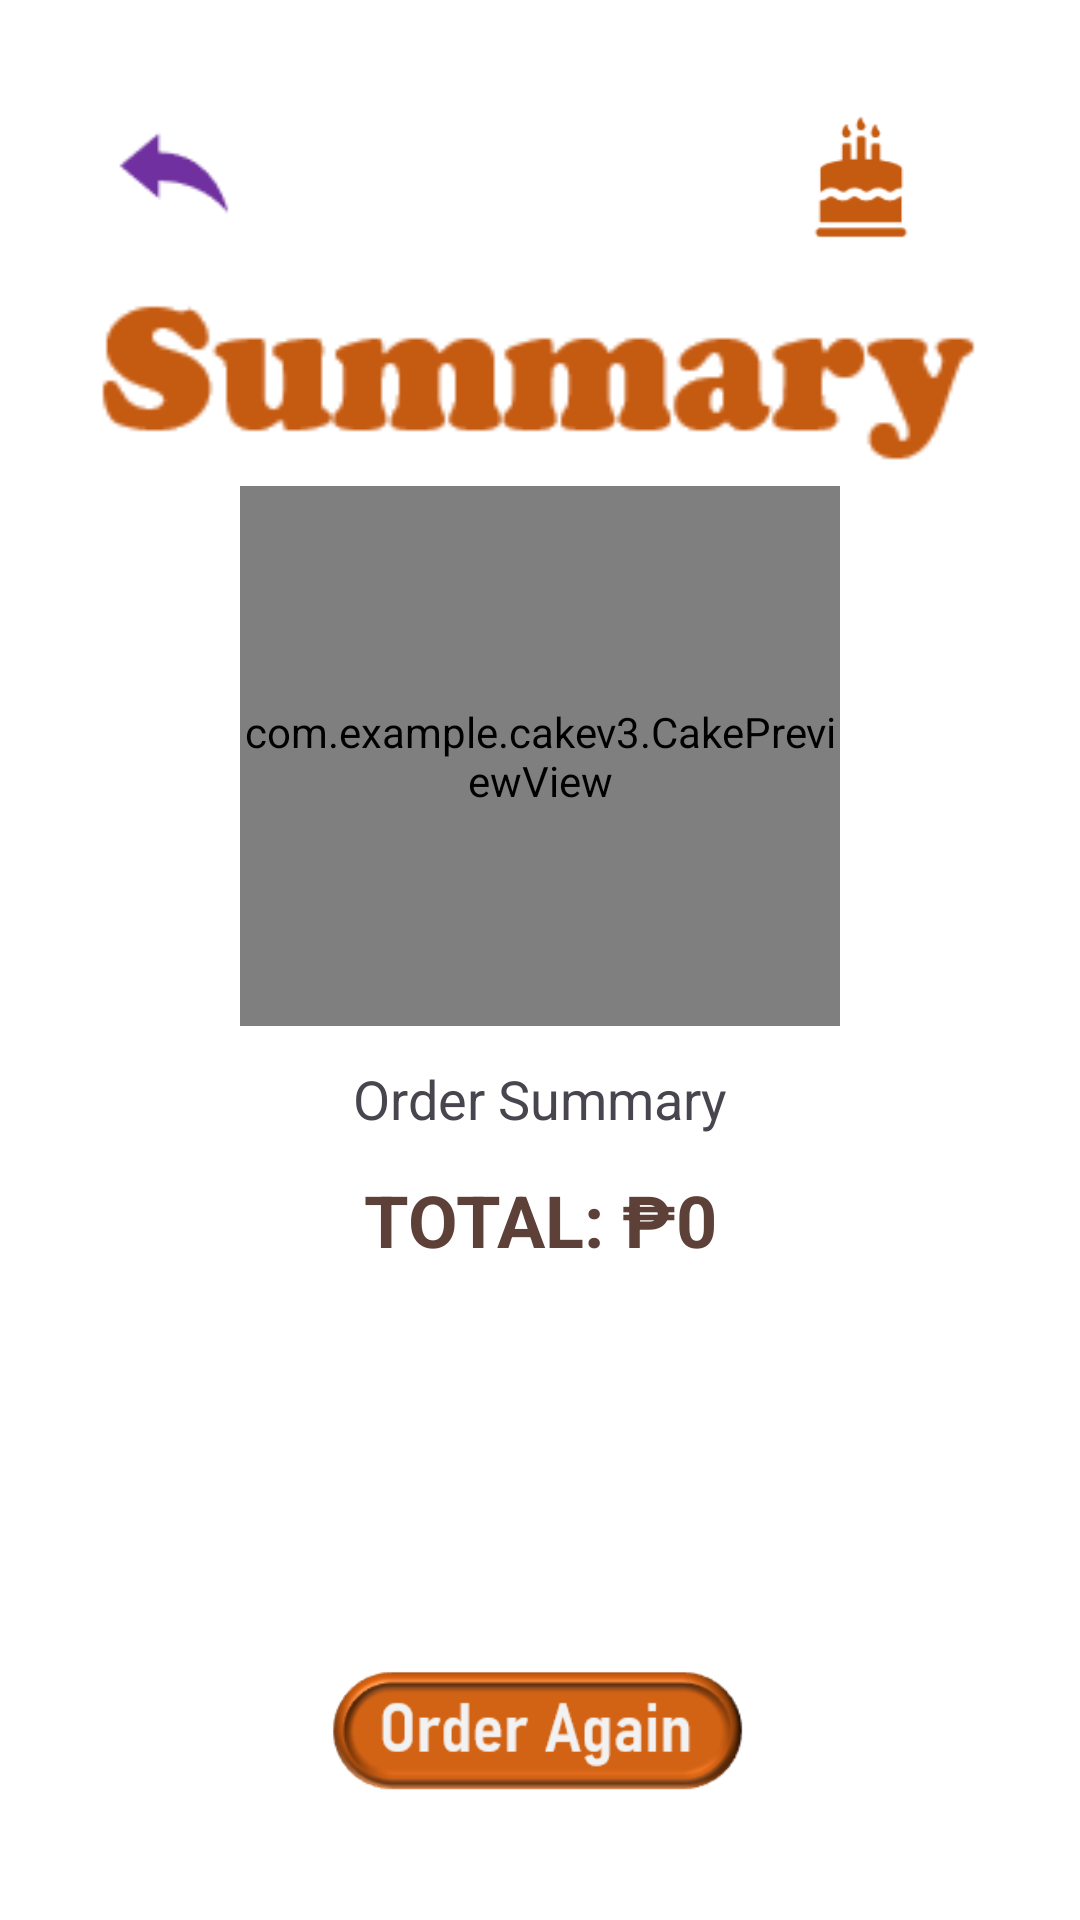

Icon click points for this 1080x1920 phone screenshot, format (x,y):
back: (174,173)
